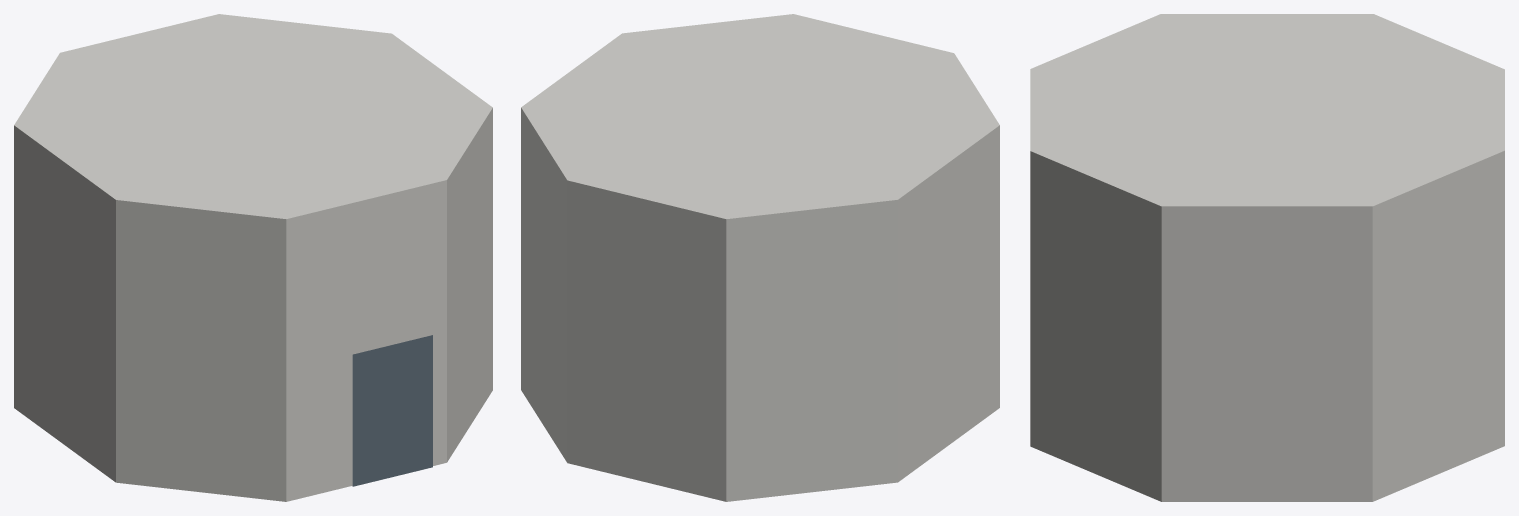
Rendered from loin-etape-1.glb.
3 renders of one model, left to right at view 1: azimuth 30°, elevation 25°; view 2: azimuth 150°, elevation 25°; view 3: azimuth 270°, elevation 25°, orthographic. The views are drawn at different scales.
Visible parts, largest first — view 1: loin; view 2: loin; view 3: loin.
Boxes of the visible parts, x1,y1,x2,y2 form: loin: [14, 14, 492, 501]; loin: [521, 14, 999, 501]; loin: [1030, 14, 1504, 501].
Size of the model in its own units: 0.7118 by 0.5097 by 0.7455.
